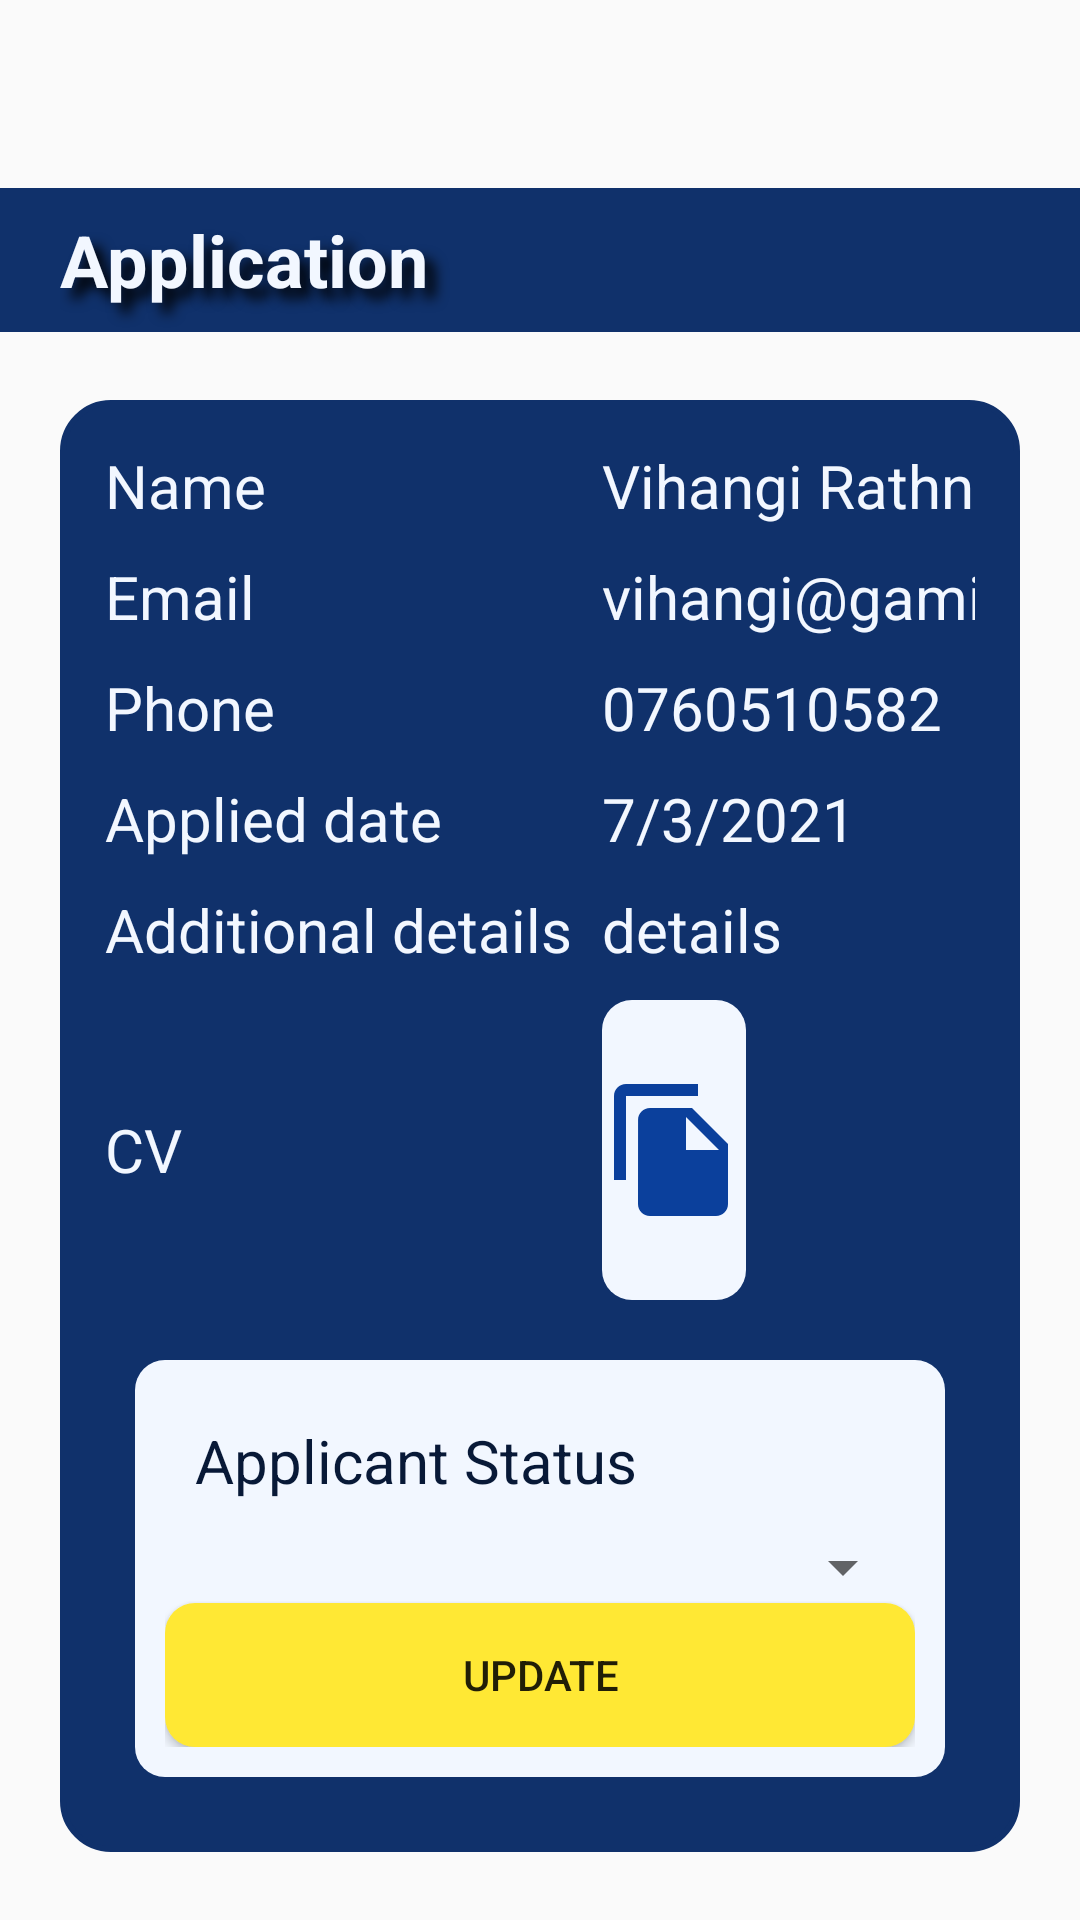

Where icons sit on this 1080*1920 app screen, as (left=x1, top=y1, right=x2, bottom=y2):
file: (left=602, top=1000, right=746, bottom=1300)
